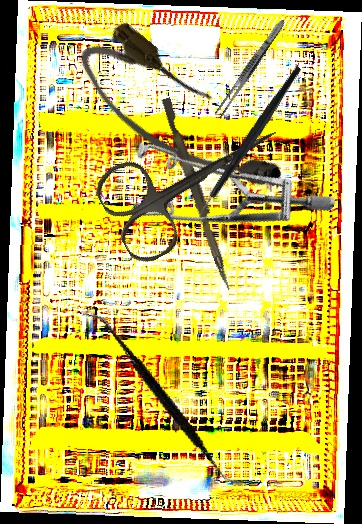Cannula: (64, 13, 296, 224)
Chopper: (158, 64, 343, 228)
Dressing Forceps: (213, 16, 288, 121)
Iris Scissors: (88, 89, 302, 270)
Pusher: (156, 97, 239, 291)
Spatula Surgical: (45, 310, 279, 490)
Speculum: (97, 79, 339, 314)
